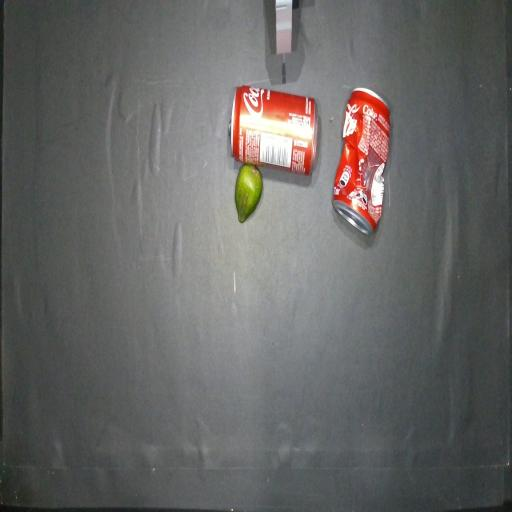higo: (235, 164, 262, 222)
lata: (229, 85, 318, 175)
lata_defectuoso: (332, 88, 390, 234)
